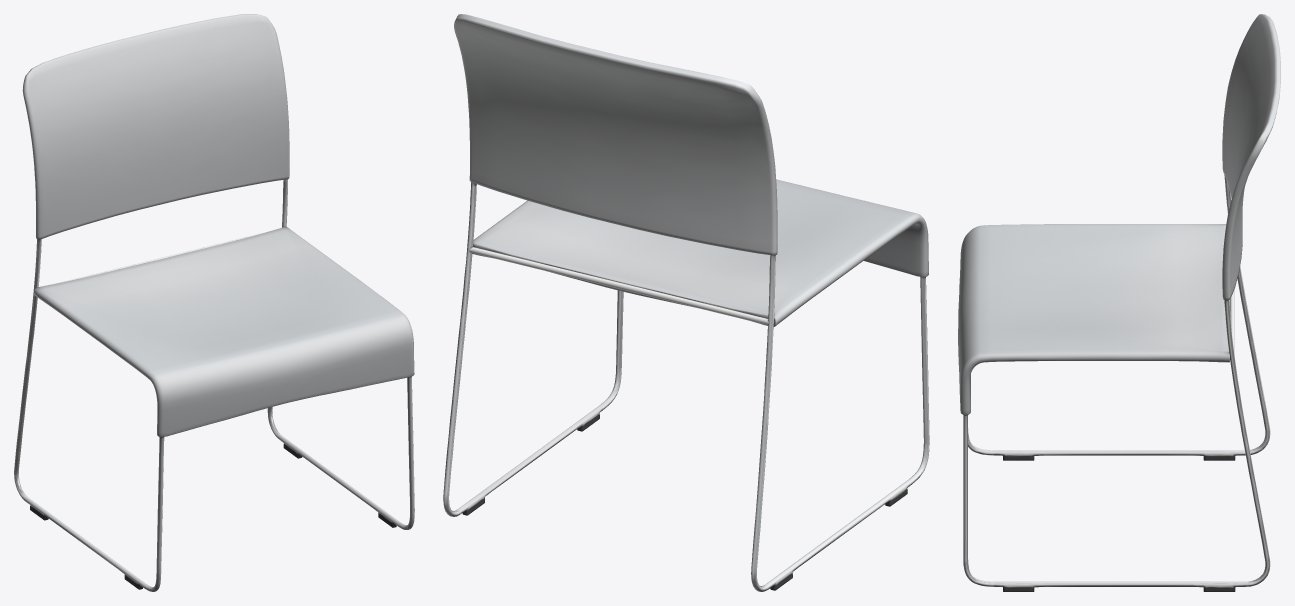
File: sim_white_chrome_plated.glb
3 renders of one model, left to right at view 1: azimuth 30°, elevation 25°; view 2: azimuth 150°, elevation 25°; view 3: azimuth 270°, elevation 25°, orthographic. The views are drawn at different scales.
Parts seen in each view (by area): view 1: sim-white; view 2: sim-white; view 3: sim-white.
Boxes of the visible parts, bbox=[...] form: sim-white: bbox=[14, 14, 414, 591]; sim-white: bbox=[443, 14, 929, 591]; sim-white: bbox=[958, 14, 1280, 591].
Bounding box in the file's own units: 0.5102 × 0.8102 × 0.5204.
1 material, 1 textured.
